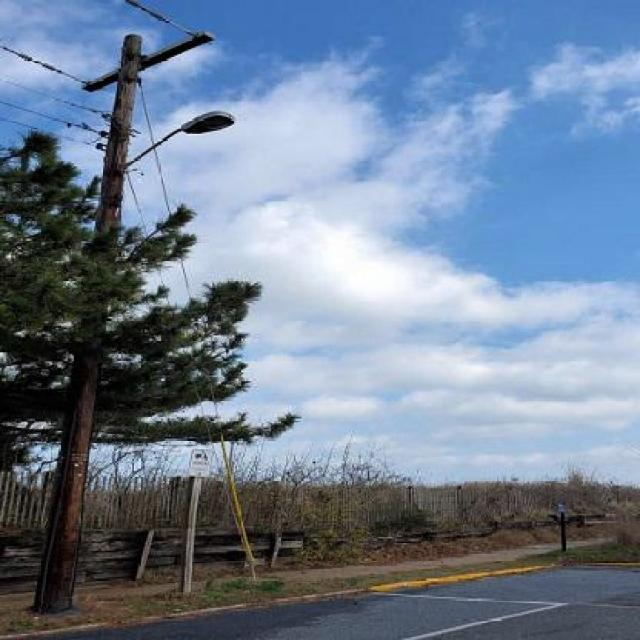crossarm: (82, 32, 215, 95)
pole: (35, 35, 141, 617)
wire: (138, 80, 190, 299), (125, 165, 173, 310), (0, 101, 110, 138), (0, 45, 91, 86), (125, 0, 197, 37)
